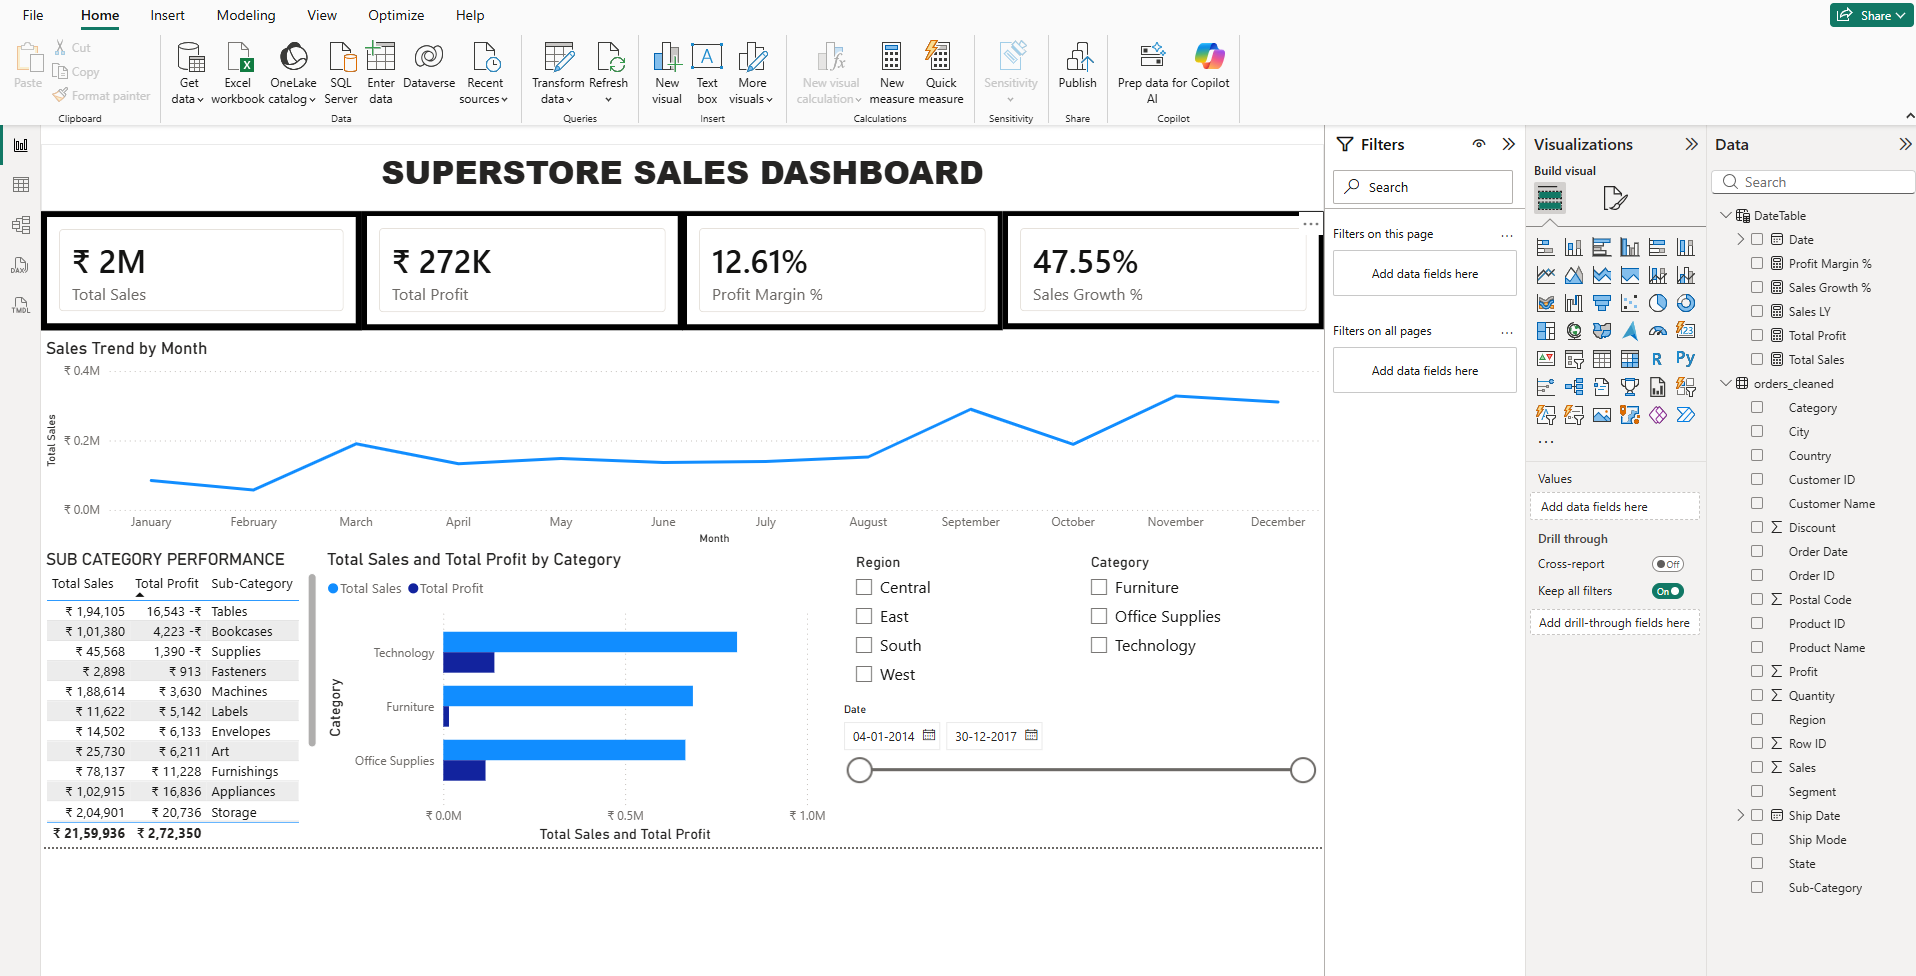

Layout of this report page (visuals, bound fields, positions):
{"tool":"powerbi","page":{"name":"Page 1","canvas":[1280,720],"ordinal":0},"visuals":[{"type":"cardVisual","fields":{"Data":["DateTable.Total Sales"]},"box":[0,85.8,320,118.7],"z":0},{"type":"cardVisual","fields":{"Data":["DateTable.Total Profit"]},"box":[320.2,85.8,320.2,118.7],"z":1000},{"type":"cardVisual","fields":{"Data":["DateTable.Profit Margin %"]},"box":[639.5,85.8,320.2,118.7],"z":2000},{"type":"cardVisual","fields":{"Data":["DateTable.Sales Growth %"]},"box":[959.8,85.8,320.2,117.7],"z":3000},{"type":"lineChart","title":"Sales Trend by Month","fields":{"Y":["DateTable.Total Sales"],"Category":["DateTable.Date.Variation.Date Hierarchy.Month"]},"box":[0,212.5,1280,210.5],"z":4000},{"type":"clusteredBarChart","fields":{"Y":["DateTable.Total Sales","DateTable.Total Profit"],"Category":["orders_cleaned.Category"]},"box":[280.3,423,507.8,297.3],"z":5000},{"type":"tableEx","title":"SUB CATEGORY PERFORMANCE","fields":{"Values":["DateTable.Total Sales","DateTable.Total Profit","orders_cleaned.Sub-Category"]},"box":[0,423,280.3,297.3],"z":5001},{"type":"slicer","fields":{"Values":["orders_cleaned.Region"]},"box":[800.1,423,225.5,162.6],"z":5002},{"type":"slicer","fields":{"Values":["orders_cleaned.Category"]},"box":[1034.6,423,245.4,148.7],"z":5003},{"type":"slicer","fields":{"Values":["DateTable.Date"]},"box":[788.2,571.7,491.8,148.7],"z":5004},{"type":"textbox","box":[0,19,1280,66.8],"z":5005}]}

Visuals, with their boxes on the page's 1280x720 design canvas (x1, y1, x2, y2). These are canvas units, not pixel positions in the 1916x976 screenshot, which may show the page scaled, cropped or inside an application window:
cardVisual - DateTable.Total Sales: <box>0,86,320,204</box>
cardVisual - DateTable.Total Profit: <box>320,86,640,204</box>
cardVisual - DateTable.Profit Margin %: <box>640,86,960,204</box>
cardVisual - DateTable.Sales Growth %: <box>960,86,1280,204</box>
"Sales Trend by Month" lineChart: <box>0,212,1280,423</box>
clusteredBarChart - DateTable.Total Sales x DateTable.Total Profit: <box>280,423,788,720</box>
"SUB CATEGORY PERFORMANCE" tableEx: <box>0,423,280,720</box>
slicer - orders_cleaned.Region: <box>800,423,1026,586</box>
slicer - orders_cleaned.Category: <box>1035,423,1280,572</box>
slicer - DateTable.Date: <box>788,572,1280,720</box>
textbox: <box>0,19,1280,86</box>
